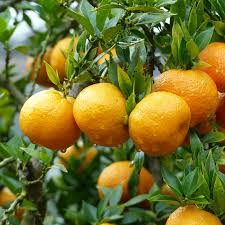orange: (127, 90, 193, 164), (15, 87, 83, 151), (154, 64, 219, 126), (72, 82, 130, 149), (97, 159, 161, 207)
